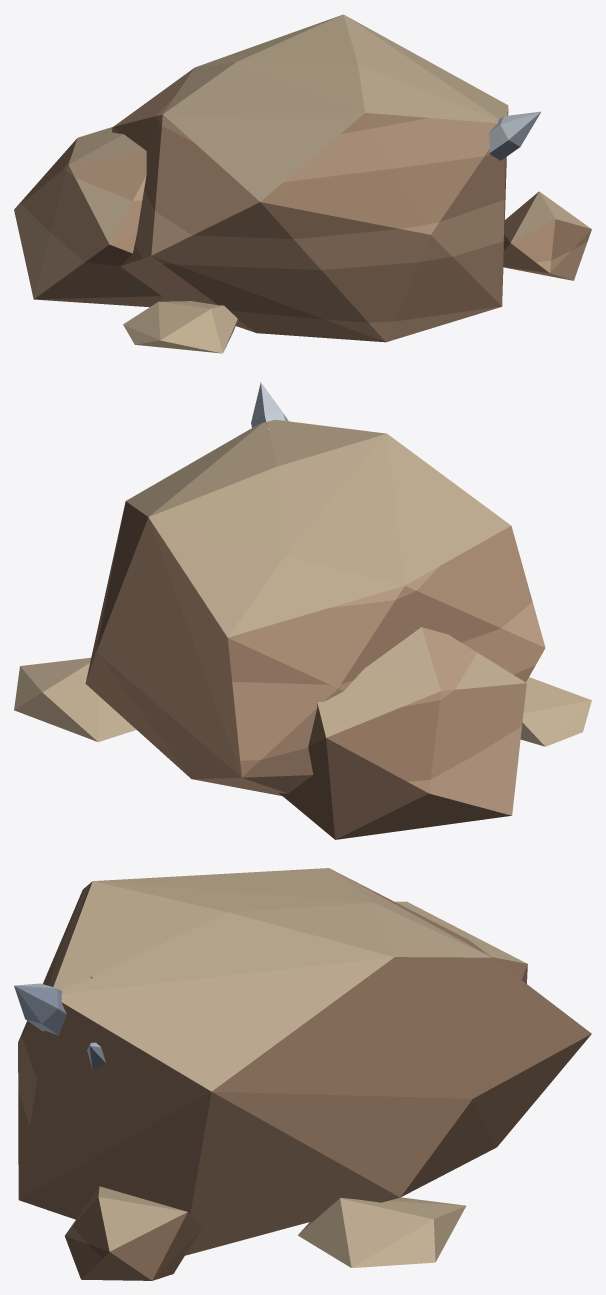
The model's file is rock_desert_0.glb.
3 views of the same model, one above another, from view 1: azimuth 30°, elevation 25°; view 2: azimuth 150°, elevation 25°; view 3: azimuth 270°, elevation 25° (orthographic). The views are drawn at different scales.
Parts seen in each view (by area): view 1: Body; view 2: Body; view 3: Body.
Part boxes in pixels (<box>): Body: <box>14,14,591,353</box>; Body: <box>14,382,591,839</box>; Body: <box>14,868,591,1280</box>.
Bounding box in the file's own units: 3.66 × 1.65 × 3.17.
